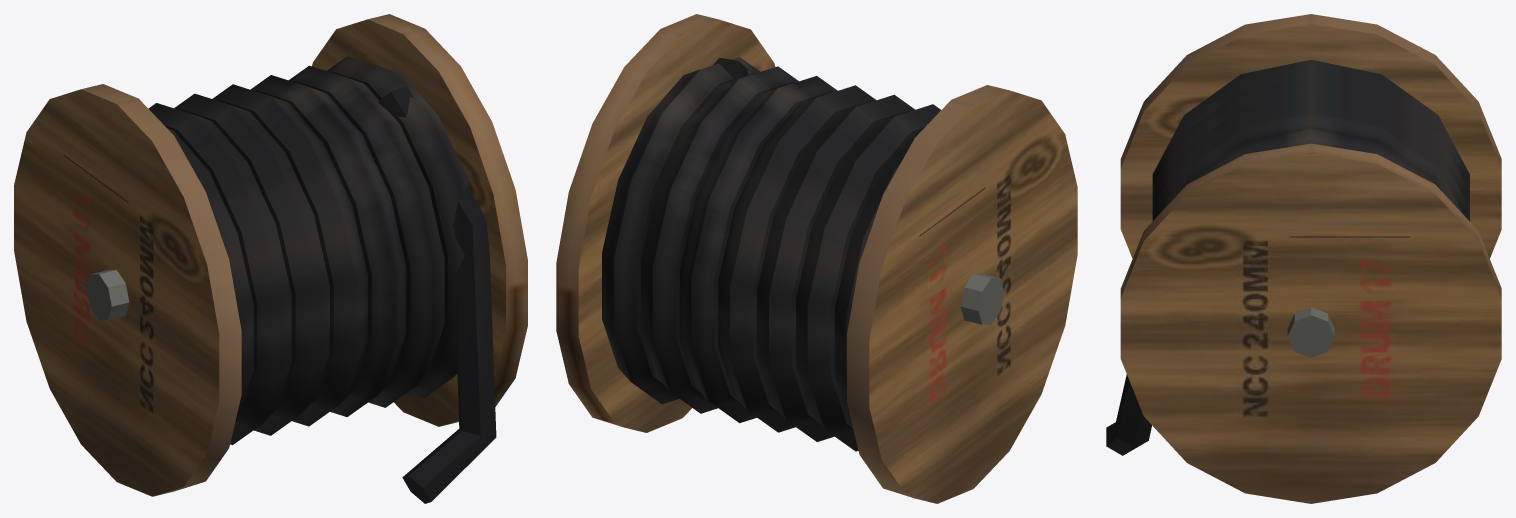
Rendered from prop_soft_cabledrum.glb.
3 renders of one model, left to right at view 1: azimuth 30°, elevation 25°; view 2: azimuth 150°, elevation 25°; view 3: azimuth 270°, elevation 25°, orthographic. The views are drawn at different scales.
Parts seen in each view (by area): view 1: prop_soft_cabledrum_body; view 2: prop_soft_cabledrum_body; view 3: prop_soft_cabledrum_body.
Part boxes in pixels (x1=…): prop_soft_cabledrum_body: x1=14, y1=14, x2=527, y2=503; prop_soft_cabledrum_body: x1=556, y1=14, x2=1077, y2=503; prop_soft_cabledrum_body: x1=1106, y1=14, x2=1501, y2=503.
Size of the model in its own units: 0.78 by 0.82 by 0.8383.
1 material, 1 textured.
